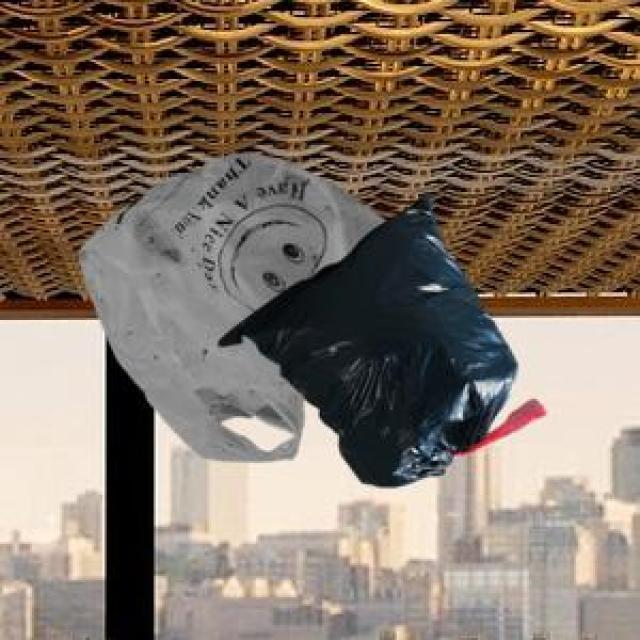miscellaneous trash: (216, 190, 542, 482)
